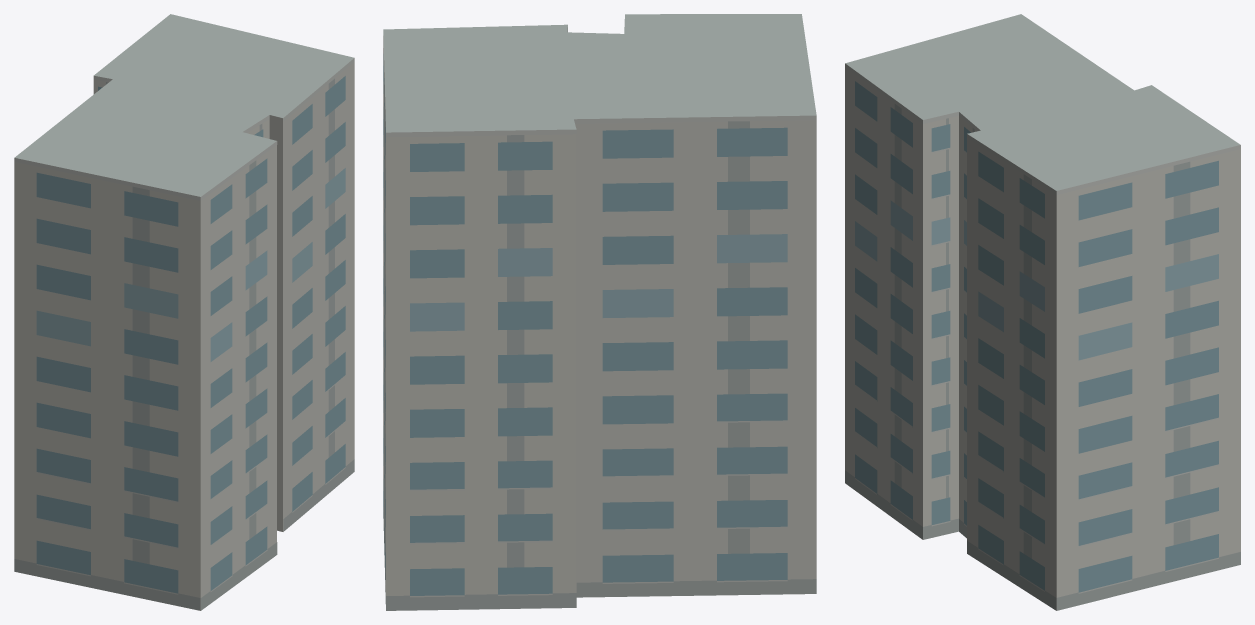
Rendered from residential-f4ee0461-4cd5-4c2c-bfd0-57b5970a3583.glb.
3 renders of one model, left to right at view 1: azimuth 30°, elevation 25°; view 2: azimuth 150°, elevation 25°; view 3: azimuth 270°, elevation 25°, orthographic. The views are drawn at different scales.
Parts seen in each view (by area): view 1: residential-f4ee0461-4cd5-4c2c-bfd0-57b5970a3583.tmp; view 2: residential-f4ee0461-4cd5-4c2c-bfd0-57b5970a3583.tmp; view 3: residential-f4ee0461-4cd5-4c2c-bfd0-57b5970a3583.tmp.
Boxes of the visible parts, left/top/right/bottom form: residential-f4ee0461-4cd5-4c2c-bfd0-57b5970a3583.tmp: left=14, top=14, right=354, bottom=610; residential-f4ee0461-4cd5-4c2c-bfd0-57b5970a3583.tmp: left=383, top=14, right=816, bottom=610; residential-f4ee0461-4cd5-4c2c-bfd0-57b5970a3583.tmp: left=845, top=14, right=1240, bottom=610.
Size of the model in its own units: 22.88 by 25.3 by 21.62.
